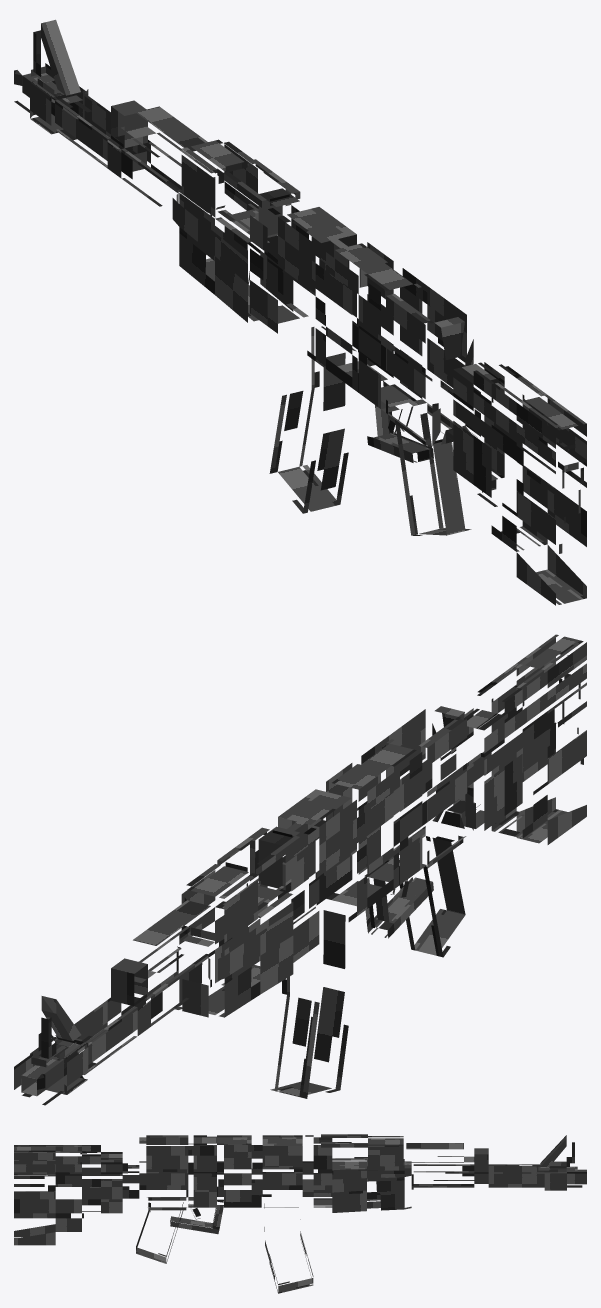
The picture shows the model from 3 angles, top to bottom: view 1: azimuth 30°, elevation 25°; view 2: azimuth 150°, elevation 25°; view 3: azimuth 270°, elevation 25°; orthographic projection. The views are drawn at different scales.
Parts seen in each view (by area): view 1: AK47_Cube.004; view 2: AK47_Cube.004; view 3: AK47_Cube.004.
Part boxes in pixels (left/top/right/bottom): AK47_Cube.004: left=14, top=19, right=586, bottom=605; AK47_Cube.004: left=14, top=634, right=586, bottom=1105; AK47_Cube.004: left=14, top=1134, right=586, bottom=1293.
Size of the model in its own units: 0.8211 by 4.98 by 16.98.
